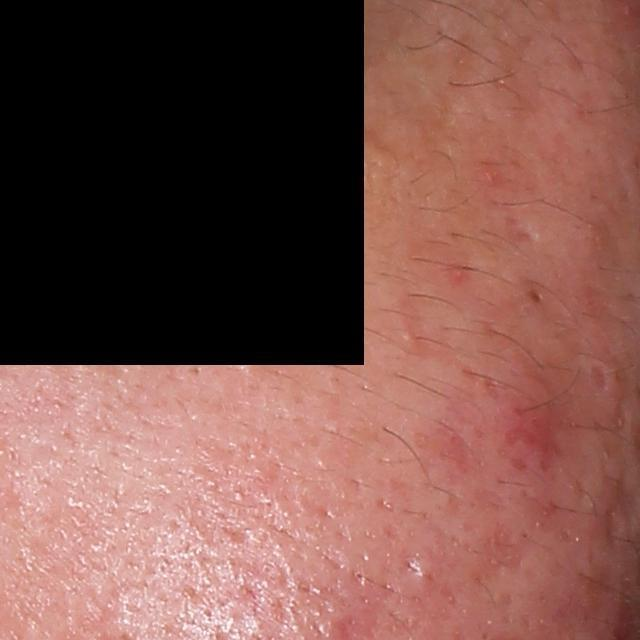atrophic_scar: (501, 216, 547, 244), (591, 362, 609, 392)
papule: (495, 395, 565, 475)
